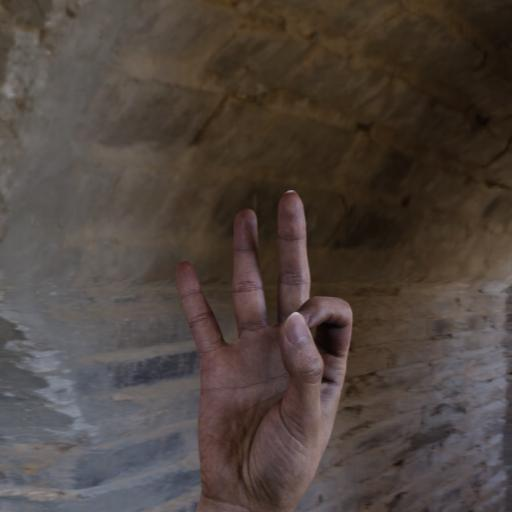F: (161, 180, 386, 512)
